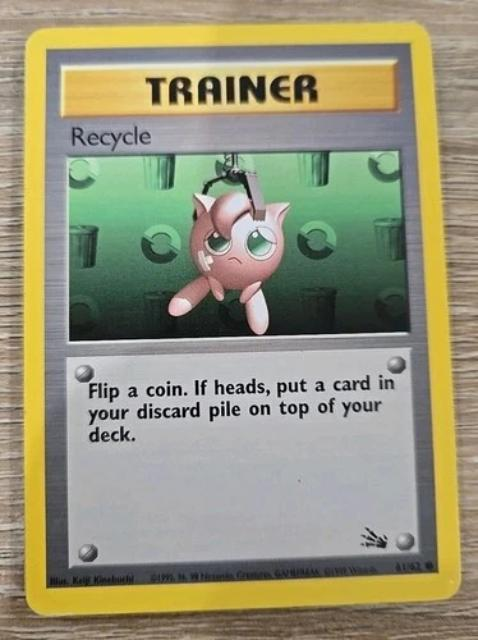Card: (20, 17, 468, 621)
Name: (64, 119, 161, 152)
